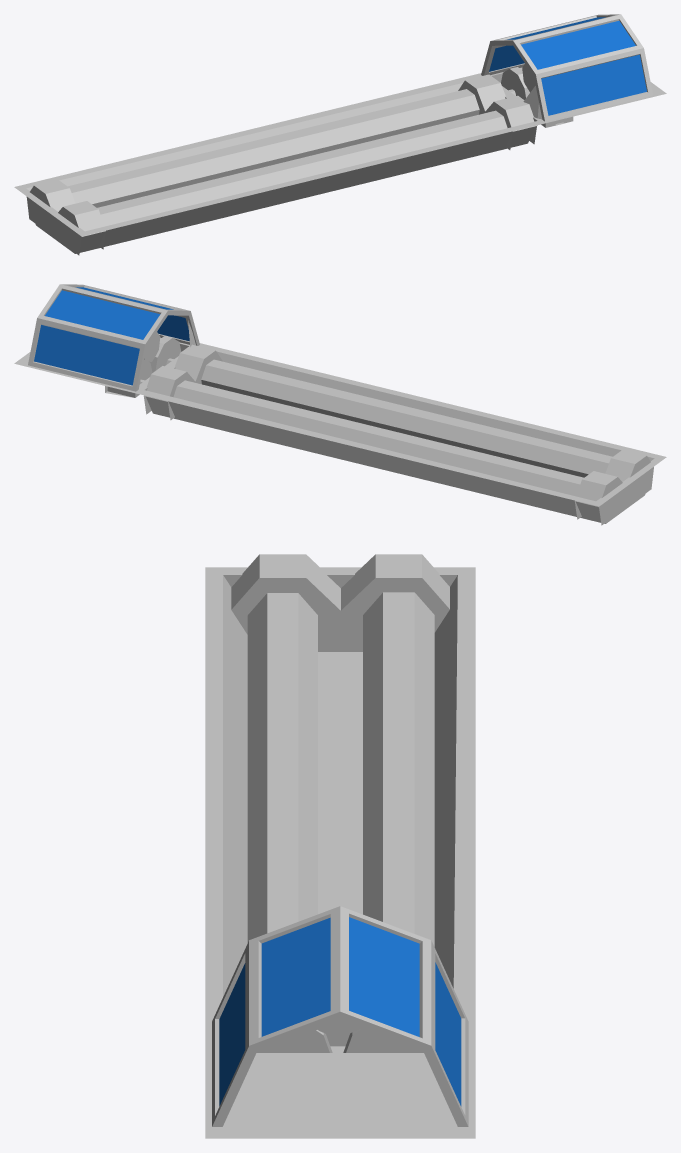
File: SM_rollers.fbx
The picture shows the model from 3 angles, top to bottom: view 1: azimuth 30°, elevation 25°; view 2: azimuth 150°, elevation 25°; view 3: azimuth 270°, elevation 25°; orthographic projection. The views are drawn at different scales.
Parts seen in each view (by area): view 1: rollers; view 2: rollers; view 3: rollers.
Boxes of the visible parts, x1,y1,x2,y2 form: rollers: [14, 14, 666, 255]; rollers: [14, 284, 666, 525]; rollers: [205, 554, 475, 1138].
Bounding box in the file's own units: 500 × 71.42 × 100.
